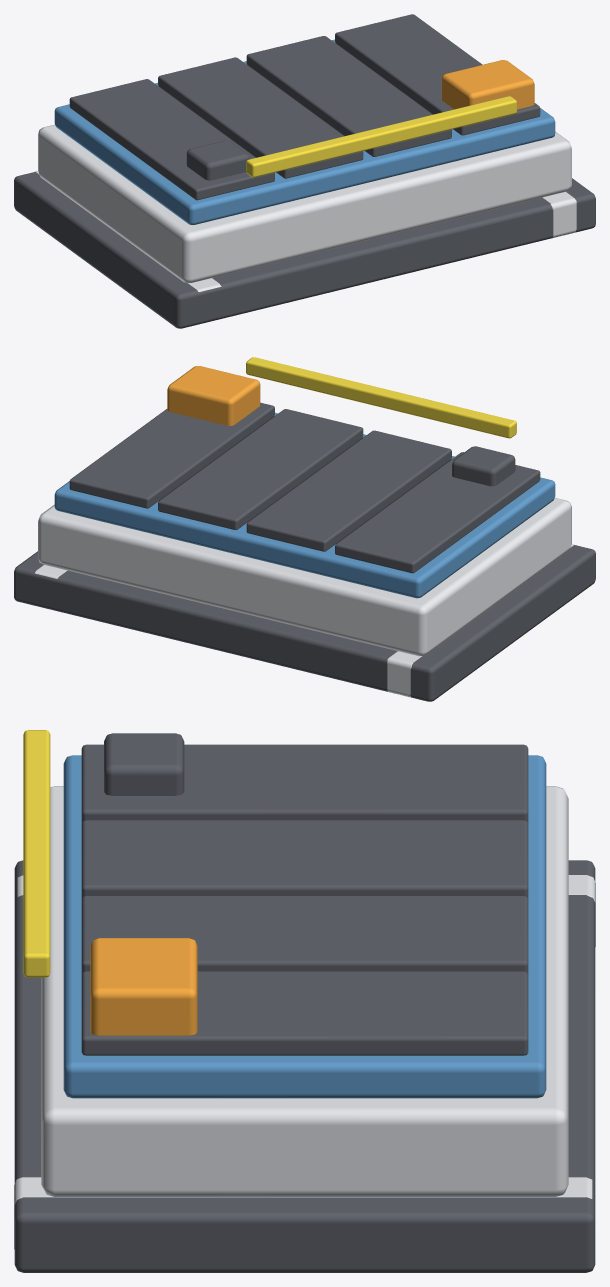
Rendered from battery-pack-on-pallet.glb.
The picture shows the model from 3 angles, top to bottom: view 1: azimuth 30°, elevation 25°; view 2: azimuth 150°, elevation 25°; view 3: azimuth 270°, elevation 25°; orthographic projection. The views are drawn at different scales.
Parts seen in each view (by area): view 1: battery-pack-on-pallet; view 2: battery-pack-on-pallet; view 3: battery-pack-on-pallet.
Boxes of the visible parts, x1=… form: battery-pack-on-pallet: x1=14, y1=14, x2=595, y2=328; battery-pack-on-pallet: x1=14, y1=357, x2=595, y2=701; battery-pack-on-pallet: x1=14, y1=730, x2=595, y2=1272.
Size of the model in its own units: 1.9 by 0.63 by 1.3.
